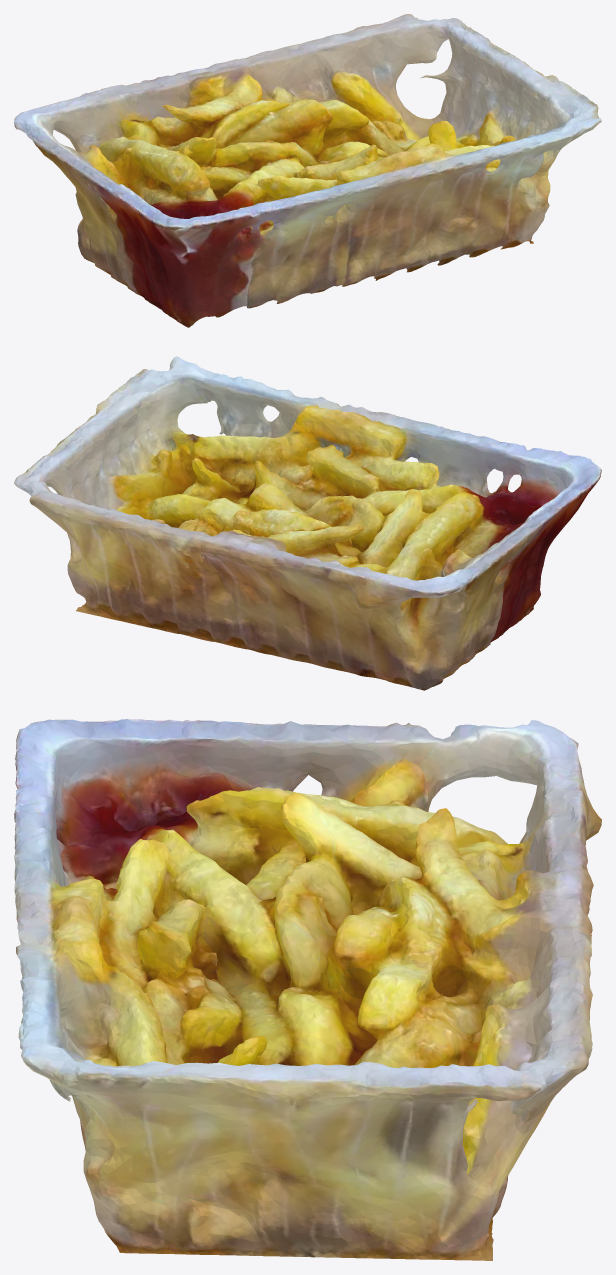
File: papas.glb
The picture shows the model from 3 angles, top to bottom: view 1: azimuth 30°, elevation 25°; view 2: azimuth 150°, elevation 25°; view 3: azimuth 270°, elevation 25°; orthographic projection. The views are drawn at different scales.
Parts seen in each view (by area): view 1: Object_2; view 2: Object_2; view 3: Object_2.
Boxes of the visible parts, box(x1,y1,x2,y2) form: Object_2: box(14, 14, 601, 327); Object_2: box(14, 356, 601, 690); Object_2: box(14, 719, 601, 1260).
Bounding box in the file's own units: 0.2 × 0.0606 × 0.135.
1 material, 1 textured.
